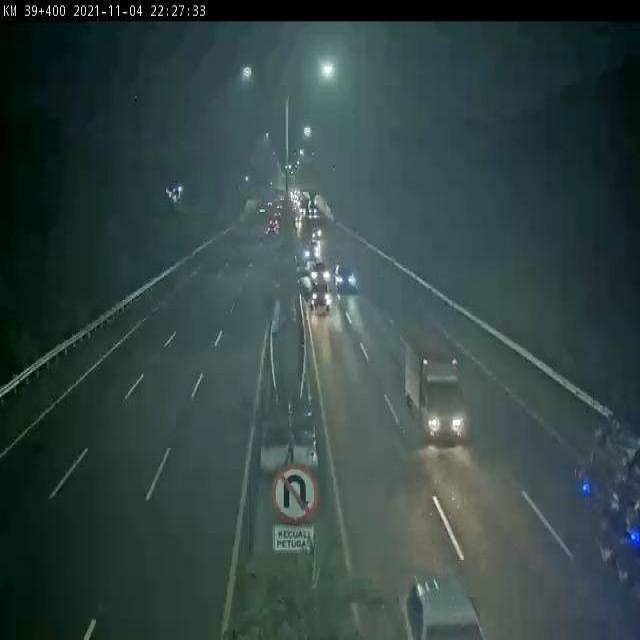car: (308, 282, 331, 310), (333, 264, 358, 289), (309, 261, 332, 287)
truck-m-: (403, 339, 464, 445)
truck-xl-: (549, 397, 640, 579)
